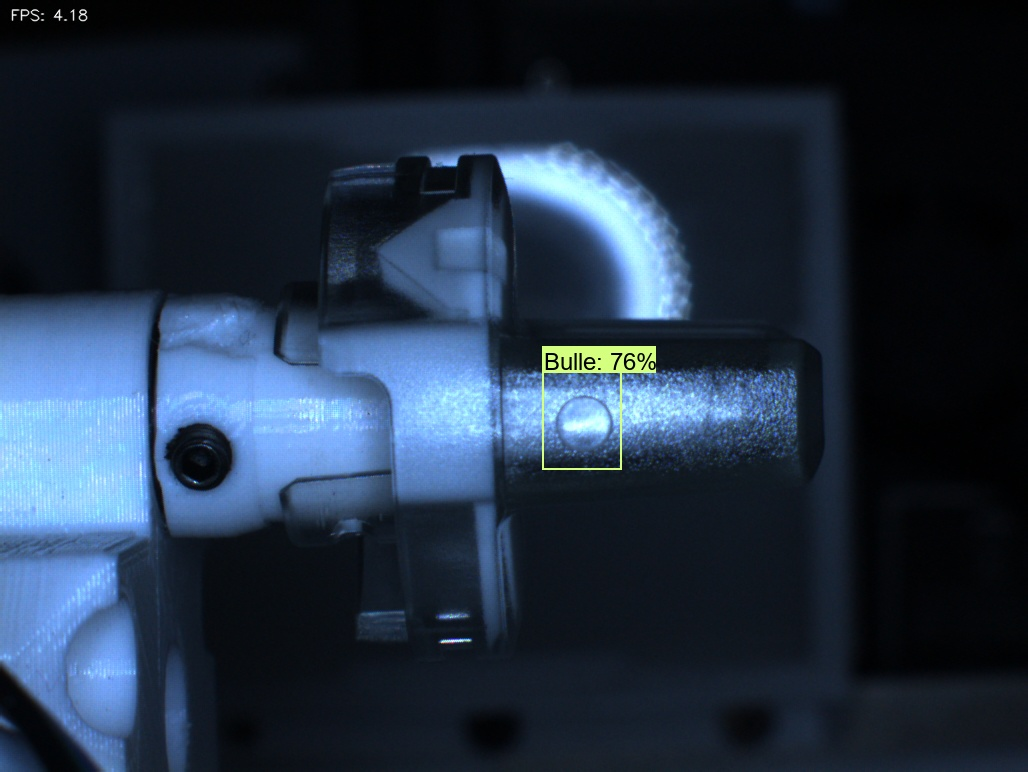DentOk: (347, 204, 427, 314)
